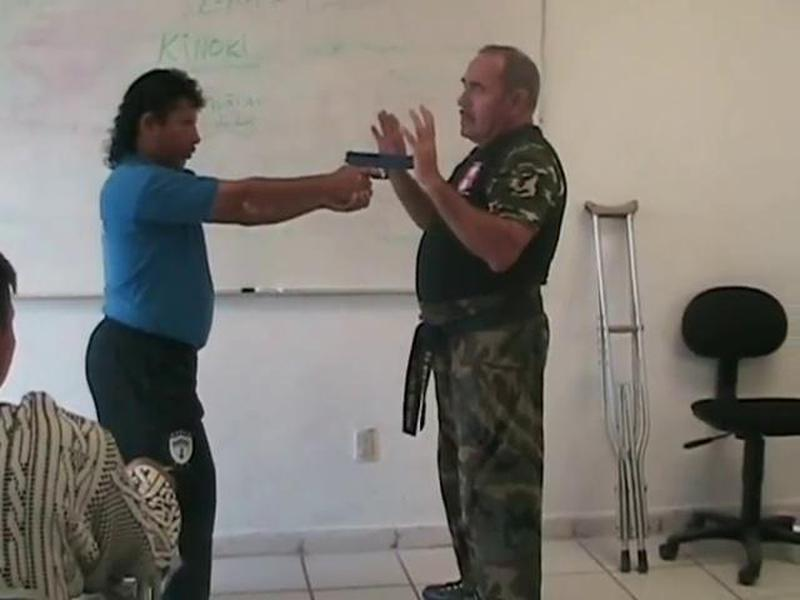Pistola: (323, 139, 439, 214)
